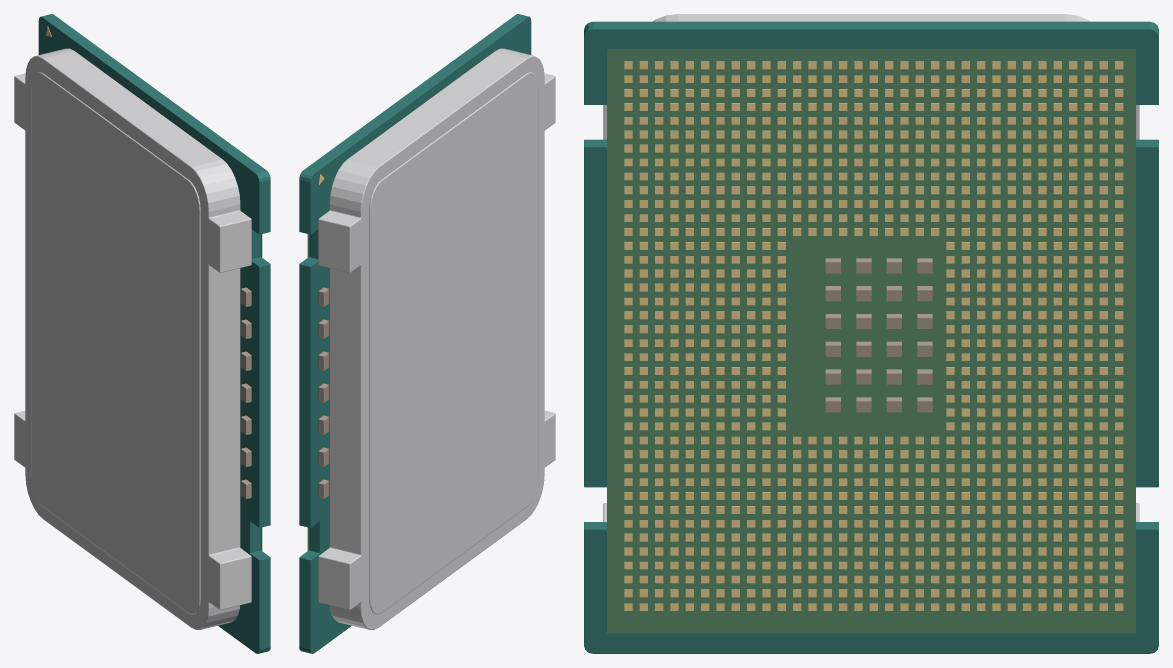
Rendered from CPU_LGA1851.glb.
The picture shows the model from 3 angles, left to right: view 1: azimuth 30°, elevation 25°; view 2: azimuth 150°, elevation 25°; view 3: azimuth 270°, elevation 25°; orthographic projection. The views are drawn at different scales.
Visible parts, largest first — view 1: CPU_LGA1851_IHS, CPU_LGA1851_Substrate; view 2: CPU_LGA1851_IHS, CPU_LGA1851_Substrate; view 3: CPU_LGA1851_Pads, CPU_LGA1851_Substrate, CPU_LGA1851_IHS.
Boxes of the visible parts, bbox=[...] form: CPU_LGA1851_IHS: bbox=[14, 48, 251, 629]; CPU_LGA1851_Substrate: bbox=[38, 14, 270, 653]; CPU_LGA1851_IHS: bbox=[318, 48, 555, 629]; CPU_LGA1851_Substrate: bbox=[299, 14, 531, 653]; CPU_LGA1851_Pads: bbox=[607, 49, 1135, 633]; CPU_LGA1851_Substrate: bbox=[584, 21, 1158, 653]; CPU_LGA1851_IHS: bbox=[603, 14, 1139, 521].
Bounding box in the file's own units: 0.0051 × 0.045 × 0.0375.
